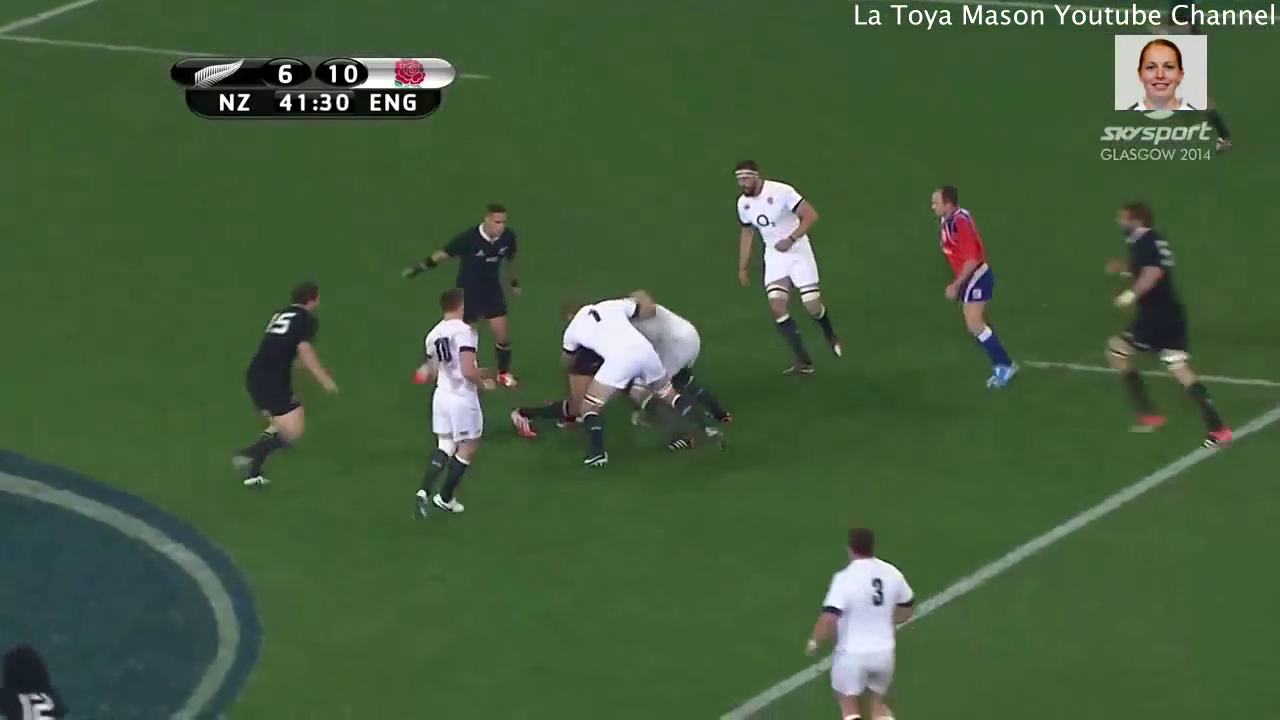player: (1089, 196, 1240, 453), (548, 296, 721, 479), (725, 156, 851, 385), (225, 276, 342, 496), (917, 183, 1034, 396), (405, 201, 531, 395), (796, 521, 913, 720), (405, 285, 493, 528), (617, 287, 738, 432), (1, 631, 65, 720)
